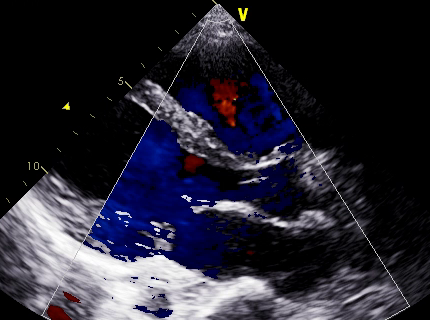MR: (147, 188, 213, 256)
